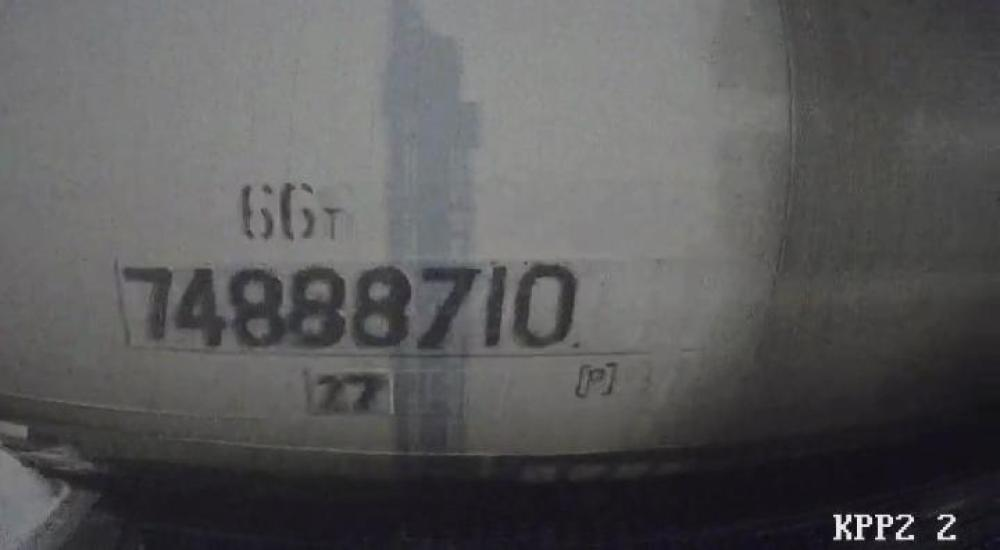Wagon-number: (120, 257, 578, 355)
